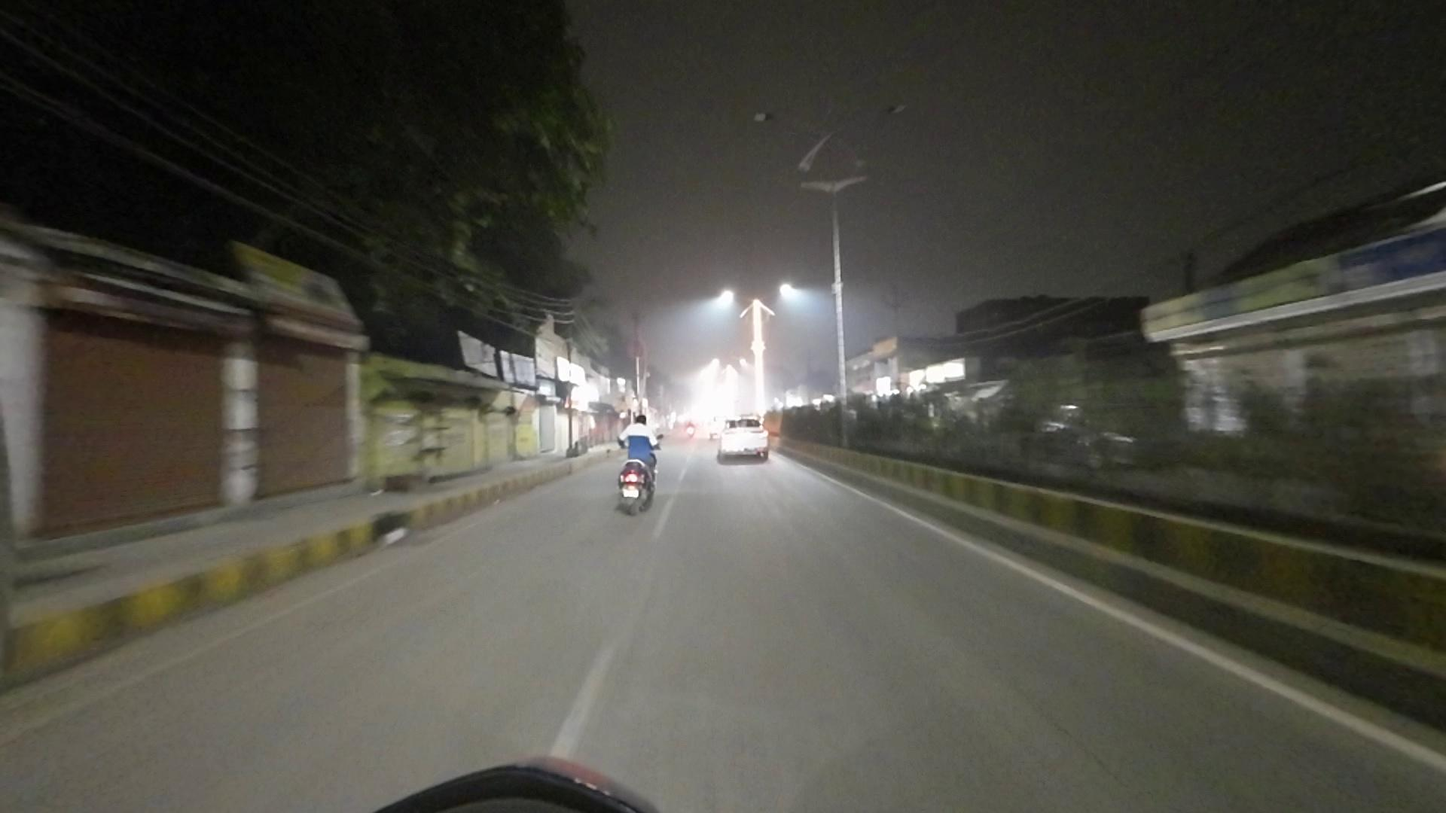streetlight: (749, 107, 823, 139), (838, 100, 912, 123)
